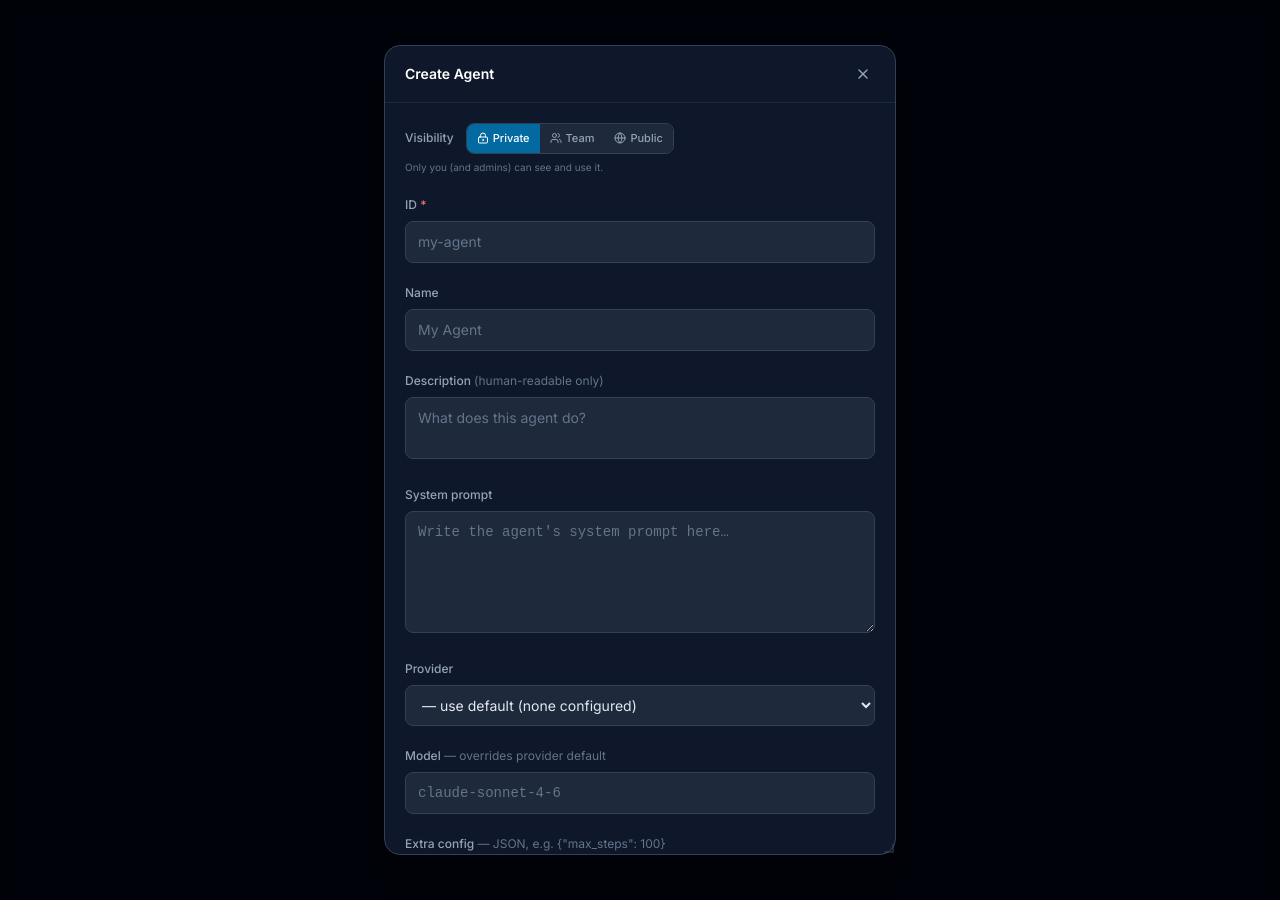
Test: the visibility control › treats is_admin as super admin when is_super_admin is missing
Click the radio button labelled "Team" at (572, 138), box [540,124,604,152]
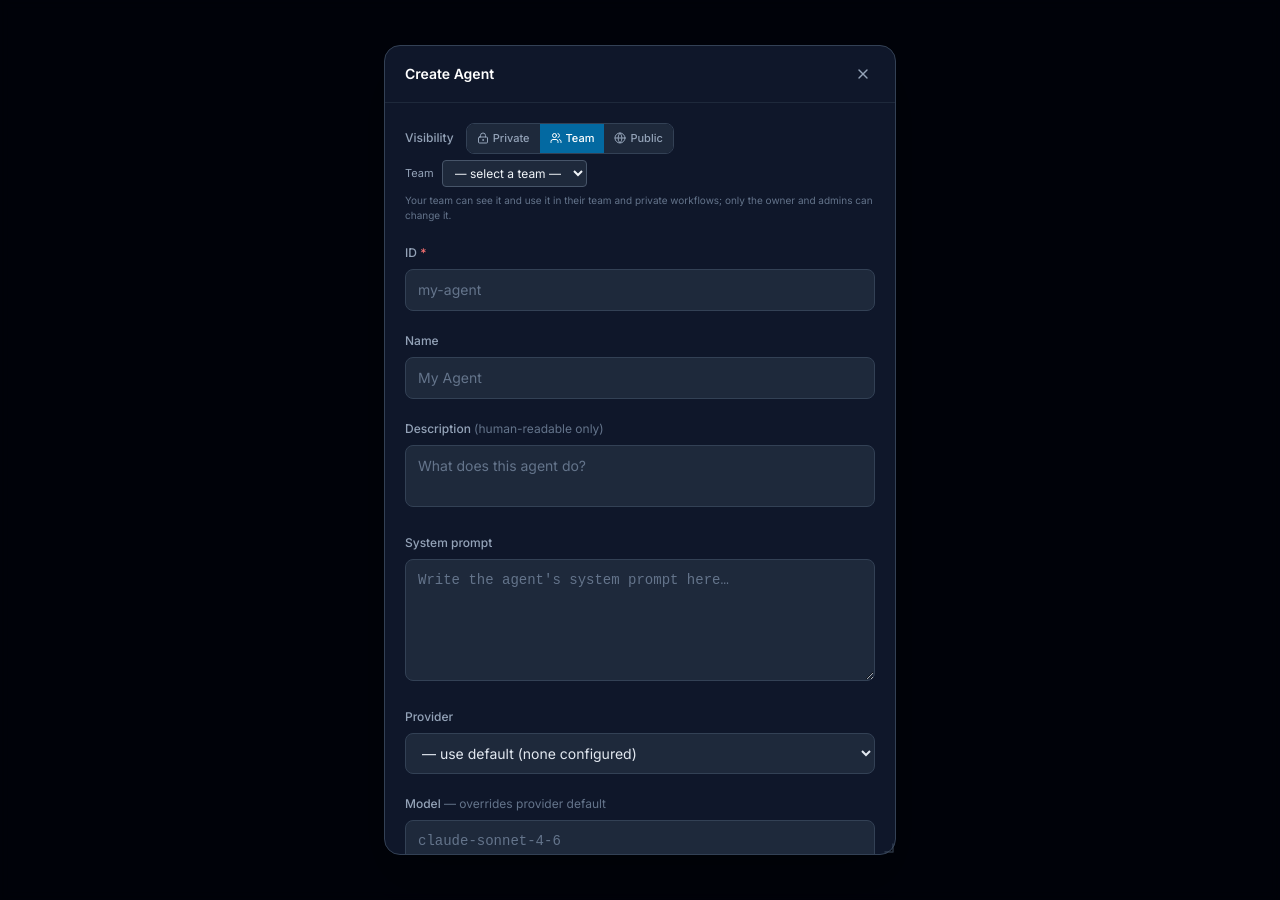
expect the dropdown labelled "Team" is shown: met, box [442,160,587,186]
